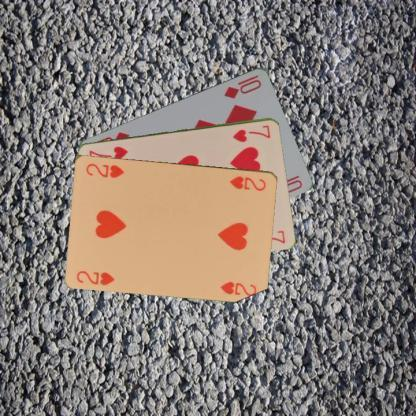10d: (221, 72, 263, 100)
2h: (74, 268, 116, 287), (228, 173, 268, 192)
7h: (230, 121, 272, 144)
